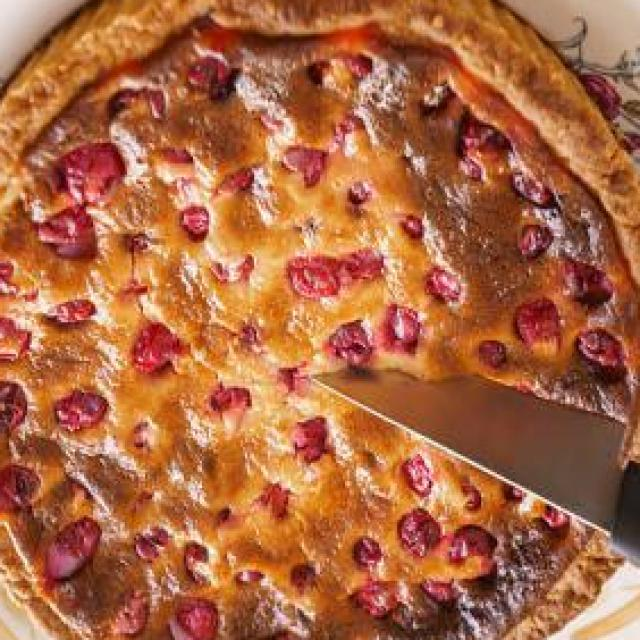knife: (308, 366, 640, 577)
